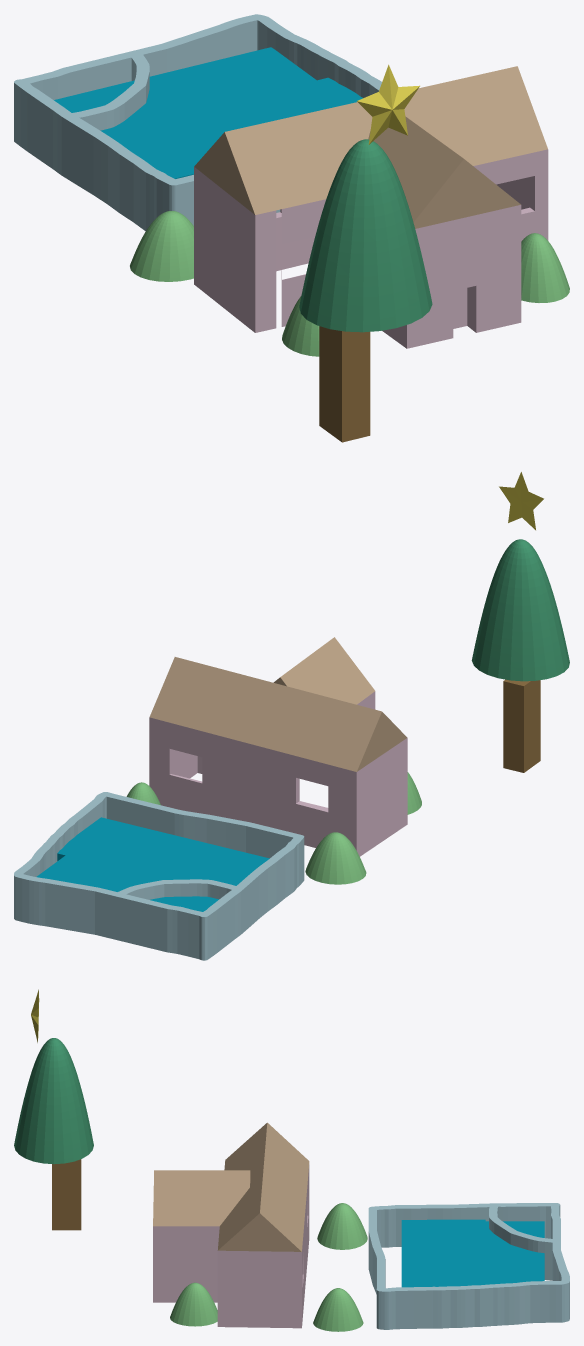
File: sreeshouse.glb
3 renders of one model, top to bottom at view 1: azimuth 30°, elevation 25°; view 2: azimuth 150°, elevation 25°; view 3: azimuth 270°, elevation 25°, orthographic. The views are drawn at different scales.
Parts seen in each view (by area): view 1: Mesh_Mesh_head_geo.001_lambert2SG.001; view 2: Mesh_Mesh_head_geo.001_lambert2SG.001; view 3: Mesh_Mesh_head_geo.001_lambert2SG.001.
Part boxes in pixels (<box>): Mesh_Mesh_head_geo.001_lambert2SG.001: <box>14,14,569,442</box>; Mesh_Mesh_head_geo.001_lambert2SG.001: <box>14,472,569,960</box>; Mesh_Mesh_head_geo.001_lambert2SG.001: <box>14,989,569,1331</box>.
Size of the model in its own units: 68 by 63.88 by 132.
